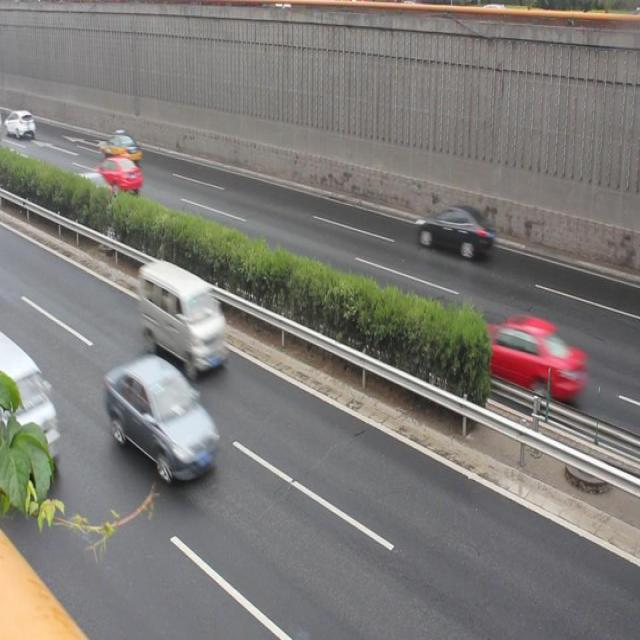car: (104, 355, 220, 479), (464, 314, 580, 401), (414, 200, 492, 258), (66, 170, 118, 214), (89, 155, 142, 191), (100, 132, 141, 164)
truck: (137, 258, 229, 374), (1, 332, 60, 495)
